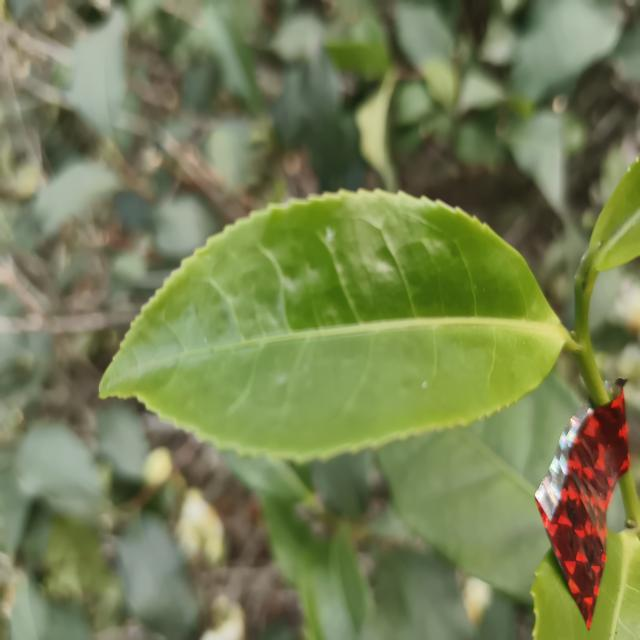Leaf: (100, 190, 569, 461), (378, 374, 581, 604), (531, 530, 640, 640), (512, 0, 621, 100), (118, 513, 198, 640), (69, 9, 127, 134), (590, 156, 640, 271), (331, 526, 368, 631)
